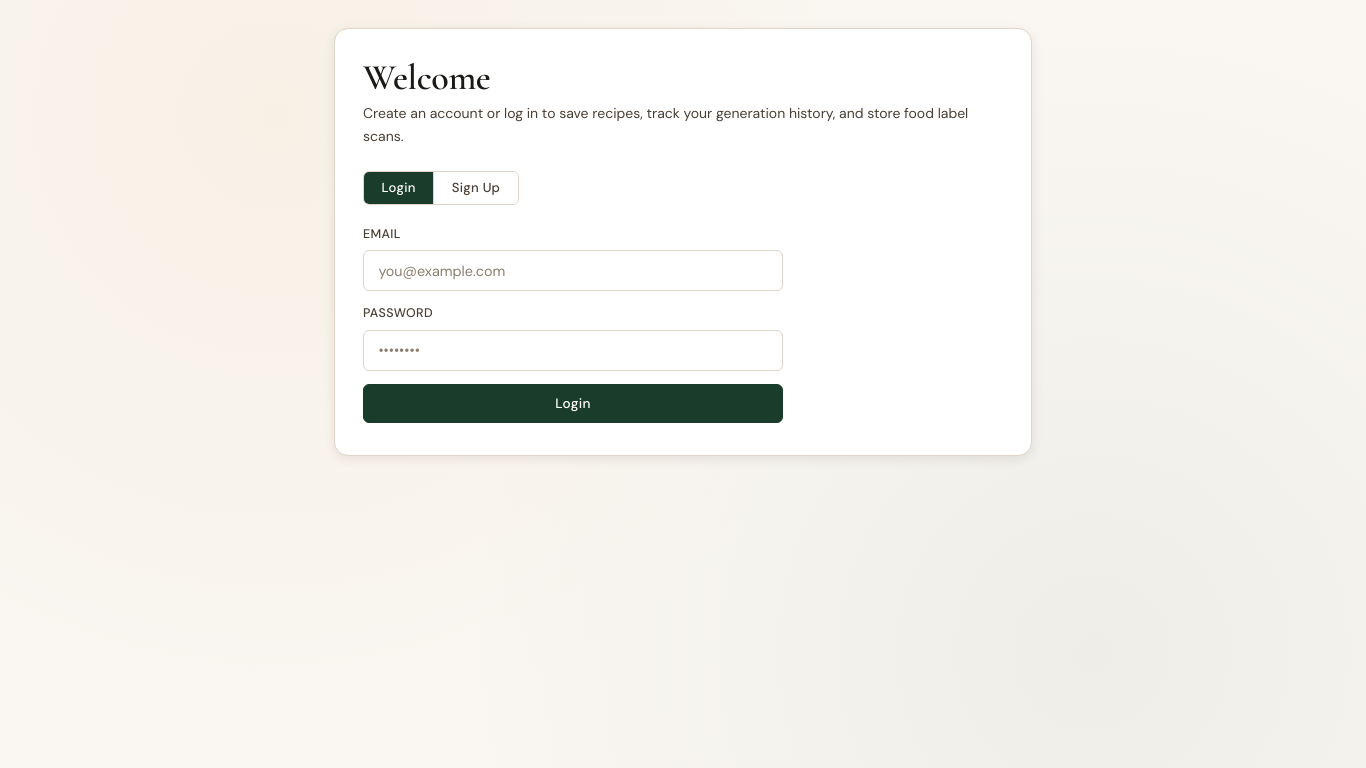
Test: LoginPage › submits login credentials and stores the access token
Step 1. Type "tester@example.com" into the field labelled "Email" → (573, 270), box [363,250,783,291]
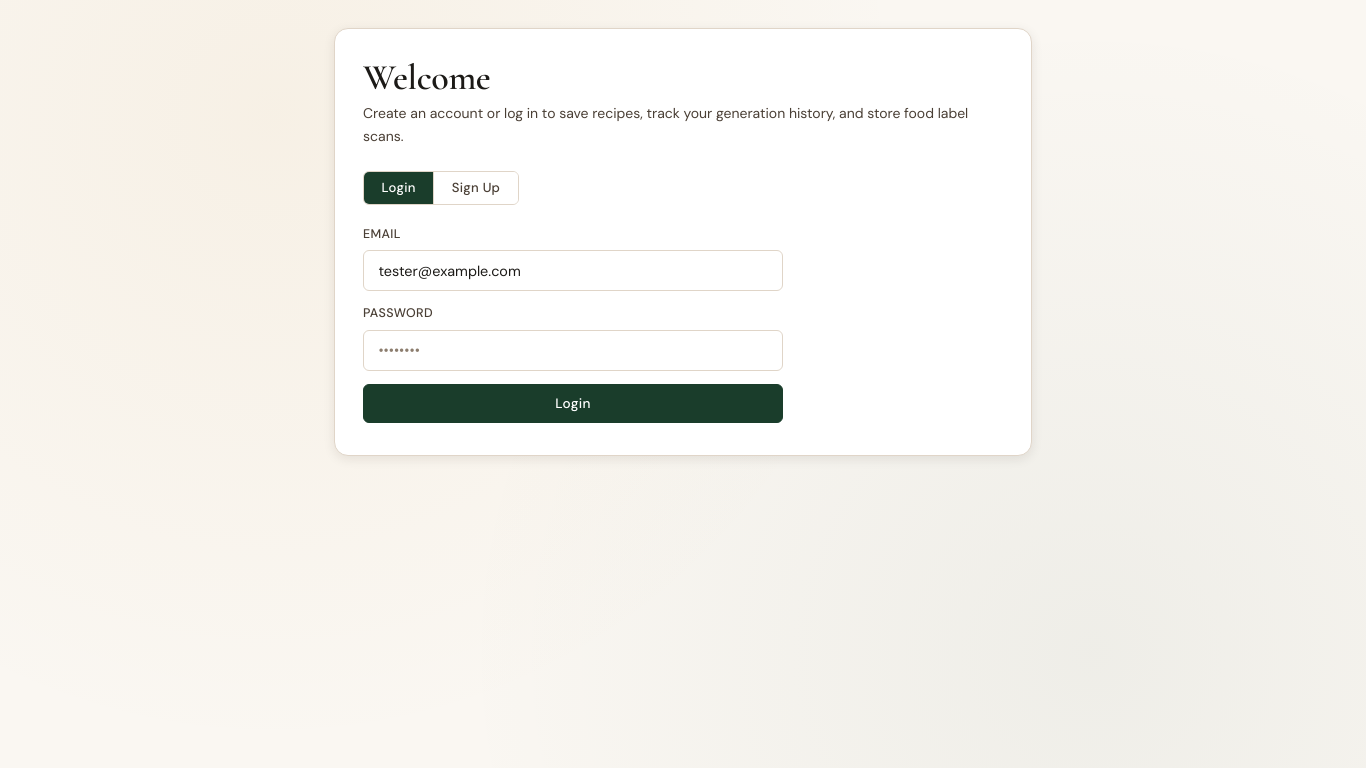
Step 2. Type "secret-password" into the password field labelled "Password" → (573, 350), box [363,330,783,371]
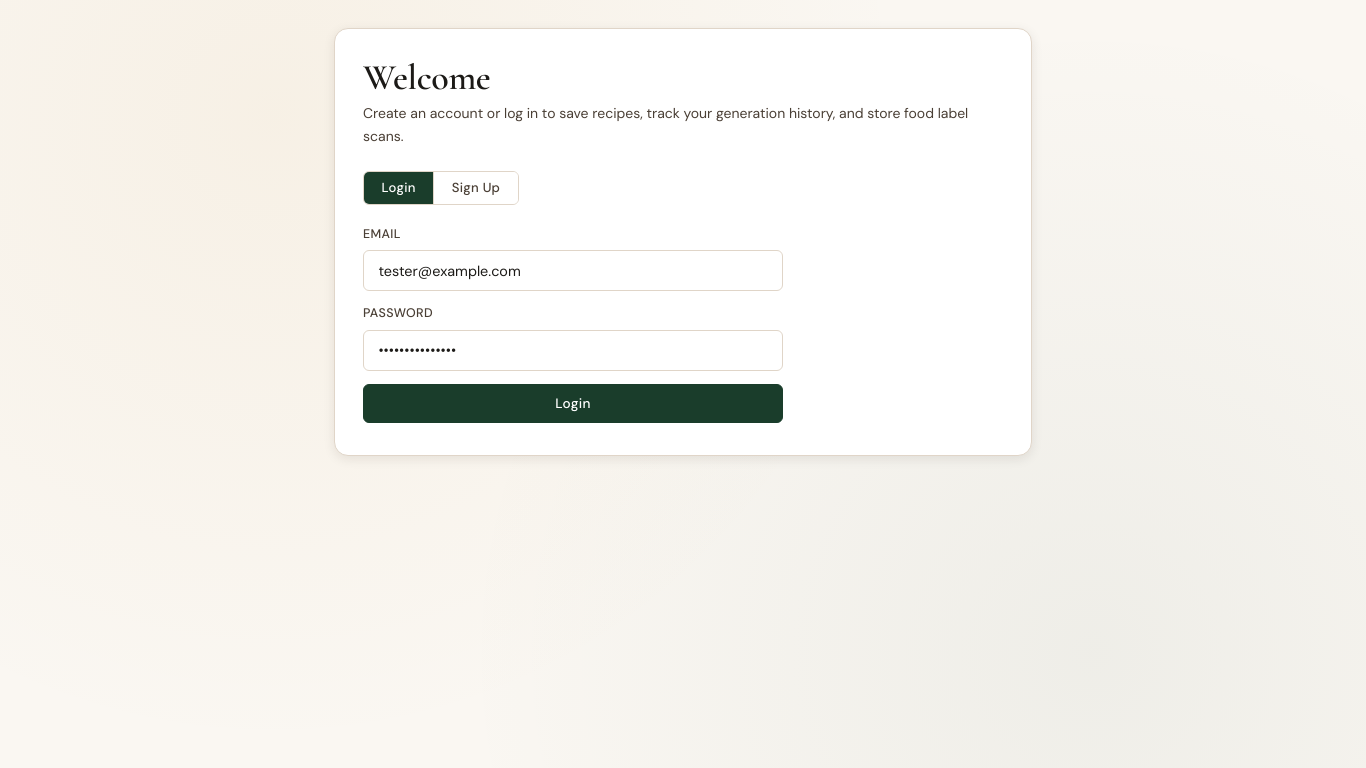
Step 3. Click the button "Login" below "Password" → (573, 404), box [363,384,783,423]
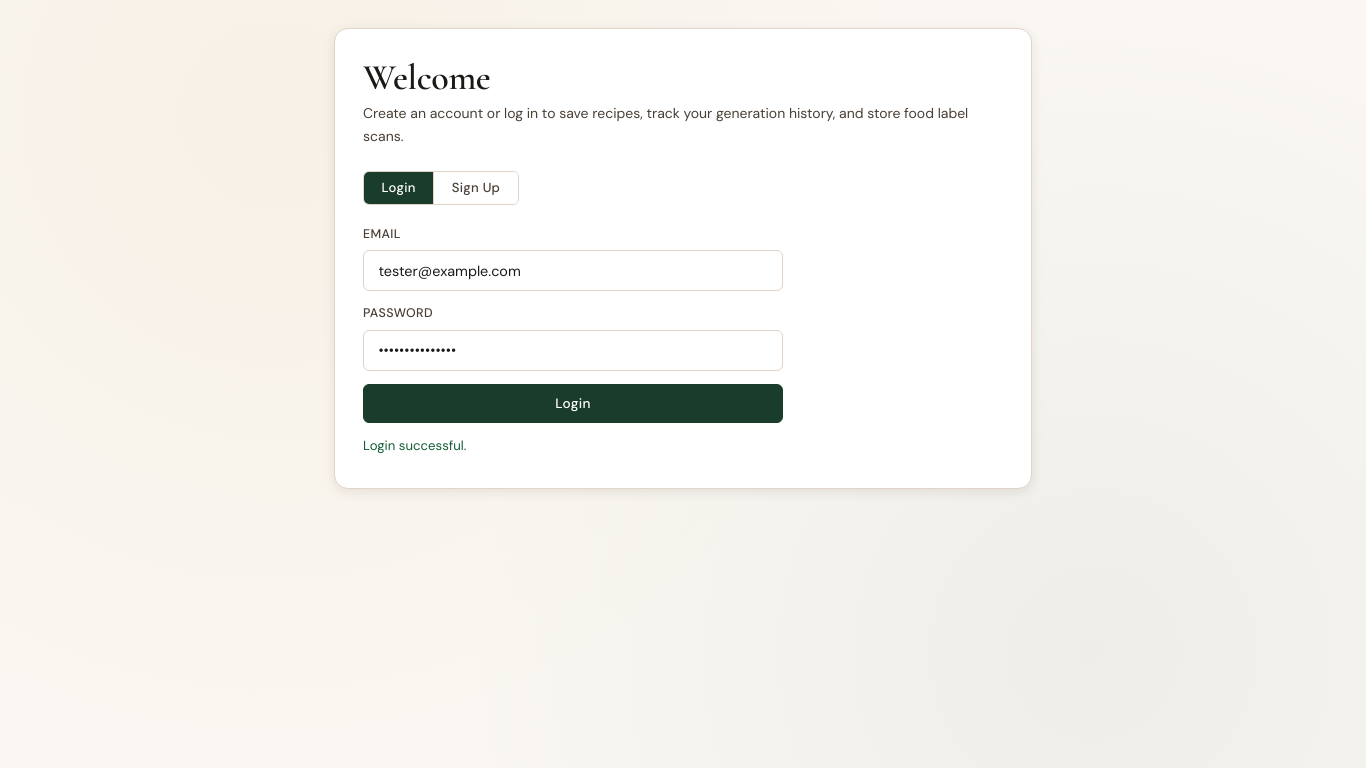
Check: the text "Login successful." is shown, box [363,437,466,454]
